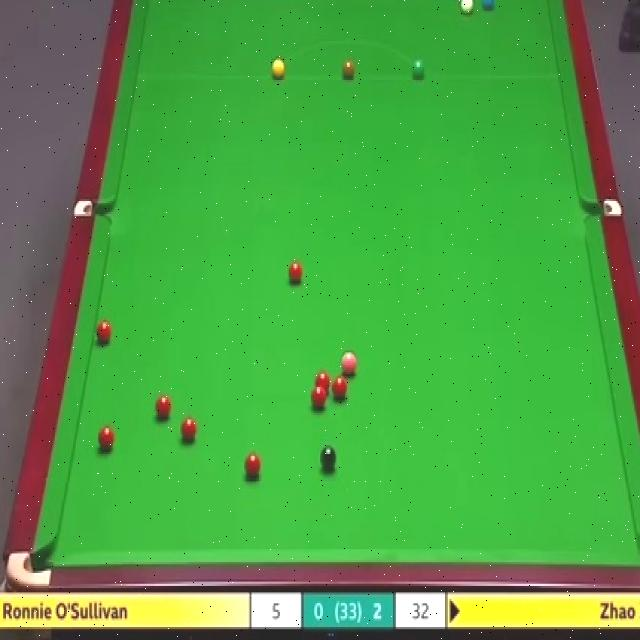black-ball: (320, 445, 338, 470)
blue-ball: (482, 0, 493, 11)
brown-ball: (341, 61, 356, 78)
green-ball: (411, 56, 426, 82)
pink-ball: (340, 354, 358, 372)
red-ball: (308, 384, 328, 409), (180, 418, 199, 444), (243, 451, 262, 477), (98, 426, 116, 453), (313, 370, 331, 396), (156, 395, 172, 423), (331, 377, 350, 400), (95, 318, 112, 342), (286, 261, 303, 283)
white-ball: (458, 0, 475, 15)
yellow-ball: (270, 57, 286, 80)
